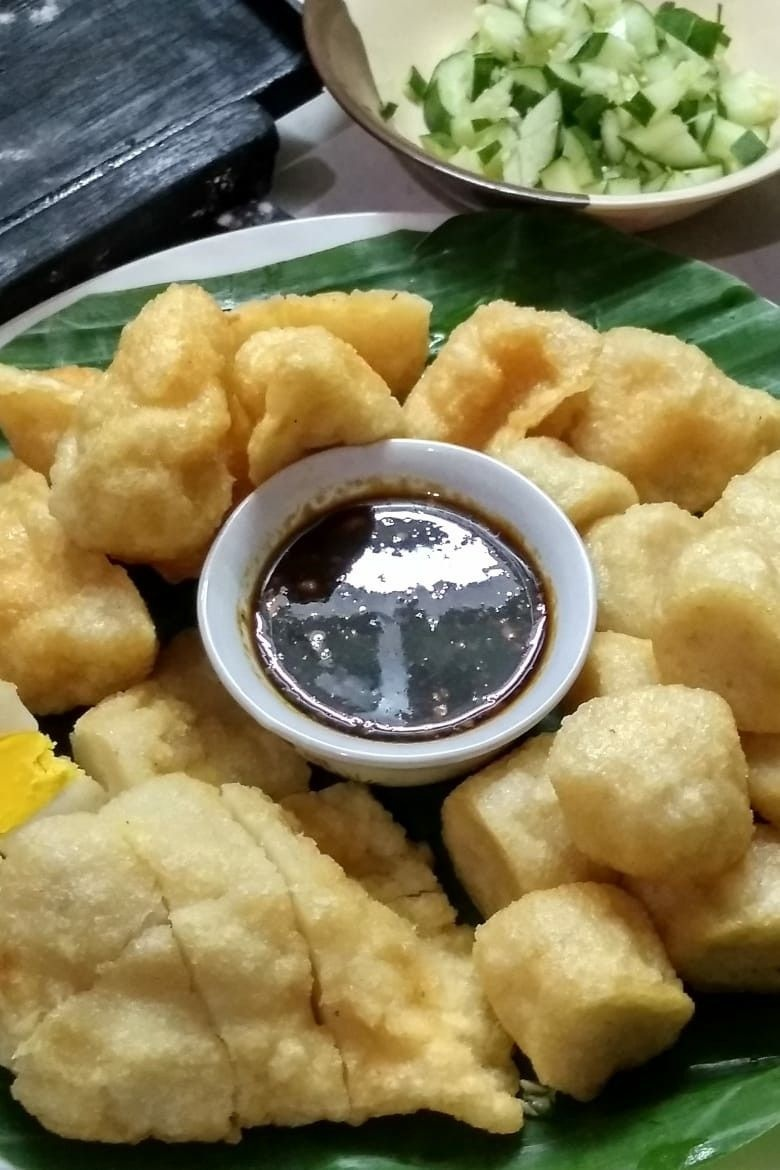pempek: (5, 281, 780, 1141)
